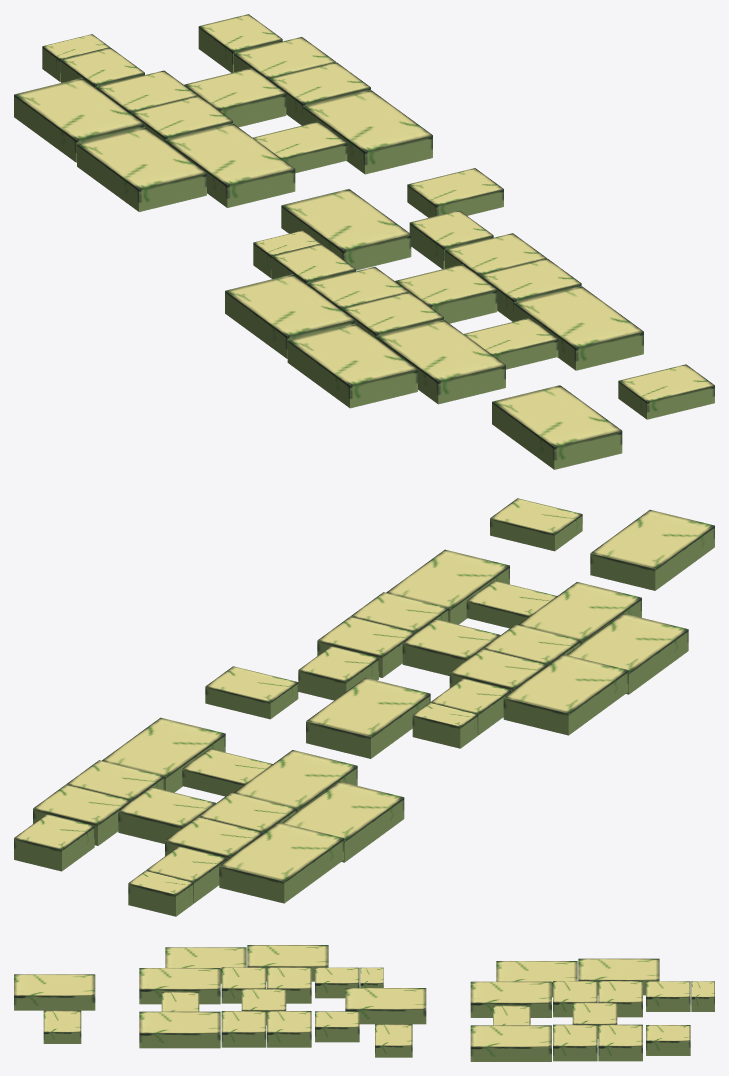
Rendered from patterned_bricks.fbx.
3 views of the same model, one above another, from view 1: azimuth 30°, elevation 25°; view 2: azimuth 150°, elevation 25°; view 3: azimuth 270°, elevation 25° (orthographic). The views are drawn at different scales.
Visible parts, largest first — view 1: Cube.027; view 2: Cube.027; view 3: Cube.027.
Boxes of the visible parts, bbox=[...] form: Cube.027: bbox=[14, 14, 714, 469]; Cube.027: bbox=[14, 498, 714, 916]; Cube.027: bbox=[14, 945, 714, 1061].
Bounding box in the file's own units: 169 × 13.22 × 493.
